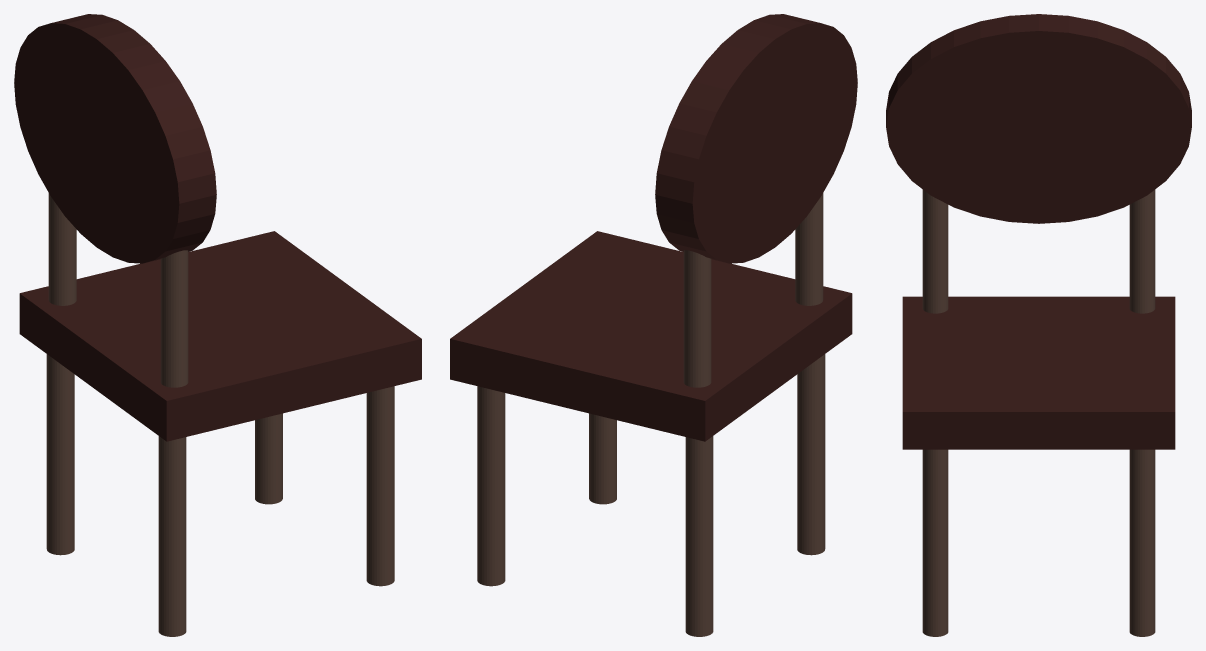
File: Sedia.fbx
3 views of the same model, side by side, from view 1: azimuth 30°, elevation 25°; view 2: azimuth 150°, elevation 25°; view 3: azimuth 270°, elevation 25° (orthographic). The views are drawn at different scales.
Visible parts, largest first — view 1: Cube.001, Cylinder.004, Cylinder.002, Cylinder.003; view 2: Cube.001, Cylinder.004, Cylinder.002, Cylinder.003; view 3: Cylinder.004, Cube.001, Cylinder.002, Cylinder.003.
Part boxes in pixels (bbox=[...]): Cube.001: bbox=[19, 231, 421, 441]; Cylinder.004: bbox=[14, 14, 216, 263]; Cylinder.002: bbox=[46, 354, 394, 636]; Cylinder.003: bbox=[48, 193, 188, 387]; Cube.001: bbox=[450, 231, 852, 441]; Cylinder.004: bbox=[655, 14, 857, 263]; Cylinder.002: bbox=[477, 354, 825, 636]; Cylinder.003: bbox=[683, 193, 823, 387]; Cylinder.004: bbox=[886, 14, 1191, 223]; Cube.001: bbox=[902, 296, 1175, 449]; Cylinder.002: bbox=[922, 449, 1155, 636]; Cylinder.003: bbox=[922, 189, 1155, 313].
Bounding box in the file's own units: 458 × 954 × 514.
